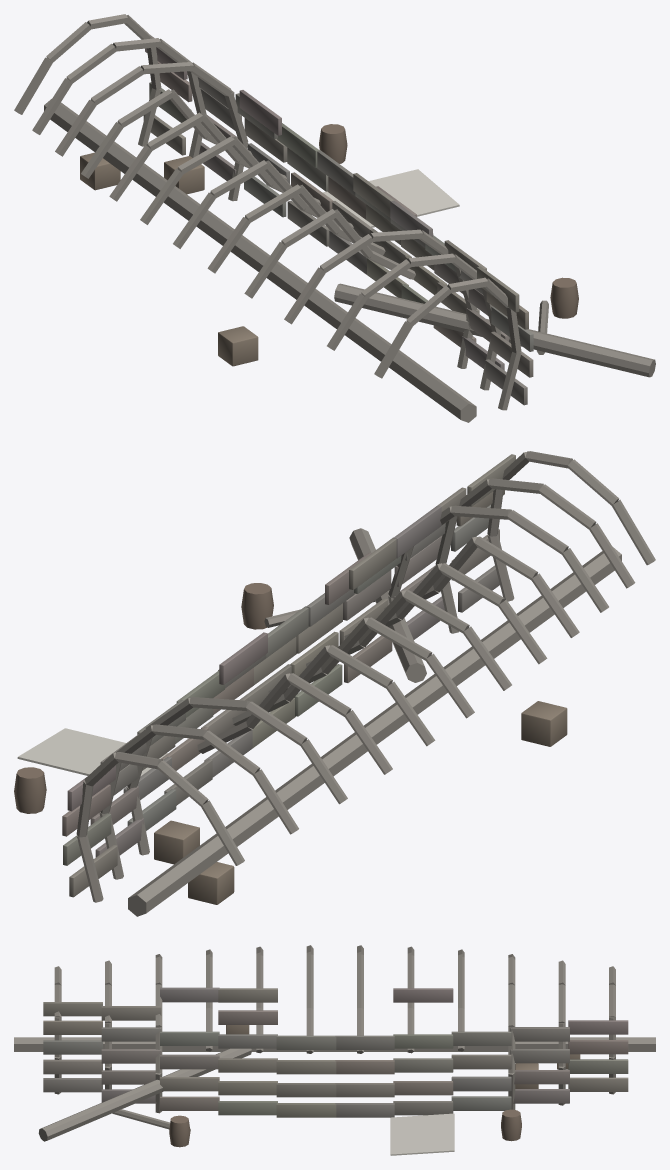
File: wreck.gltf
3 views of the same model, one above another, from view 1: azimuth 30°, elevation 25°; view 2: azimuth 150°, elevation 25°; view 3: azimuth 270°, elevation 25° (orthographic). The views are drawn at different scales.
Parts seen in each view (by area): view 1: Body; view 2: Body; view 3: Body.
Boxes of the visible parts, <box> form: Body: <box>14,14,655,422</box>; Body: <box>14,451,655,916</box>; Body: <box>14,945,655,1155</box>.
Size of the model in its own units: 10.32 by 4.66 by 22.
